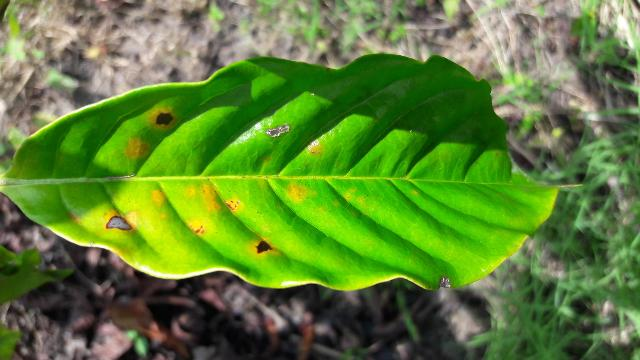rust_level_2: (8, 61, 549, 283)
